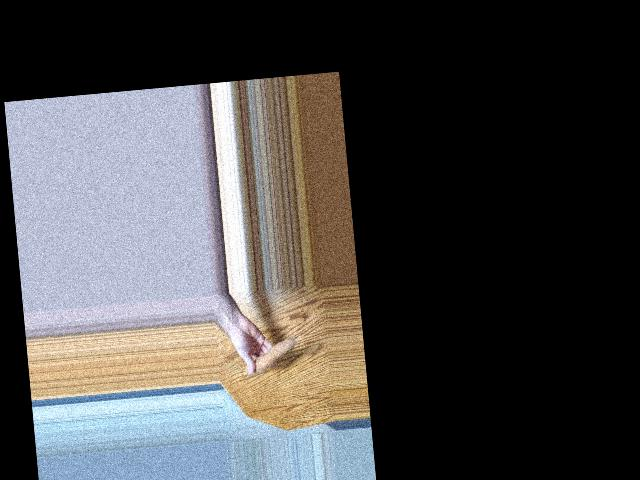sweet_potato: (241, 336, 298, 377)
